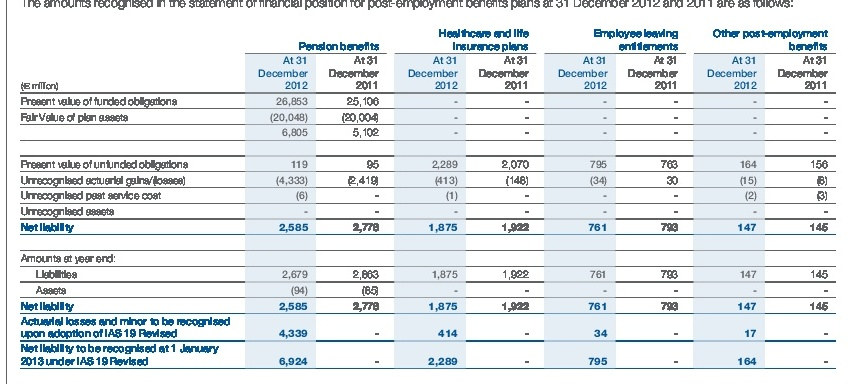table: (0, 0, 856, 384)
